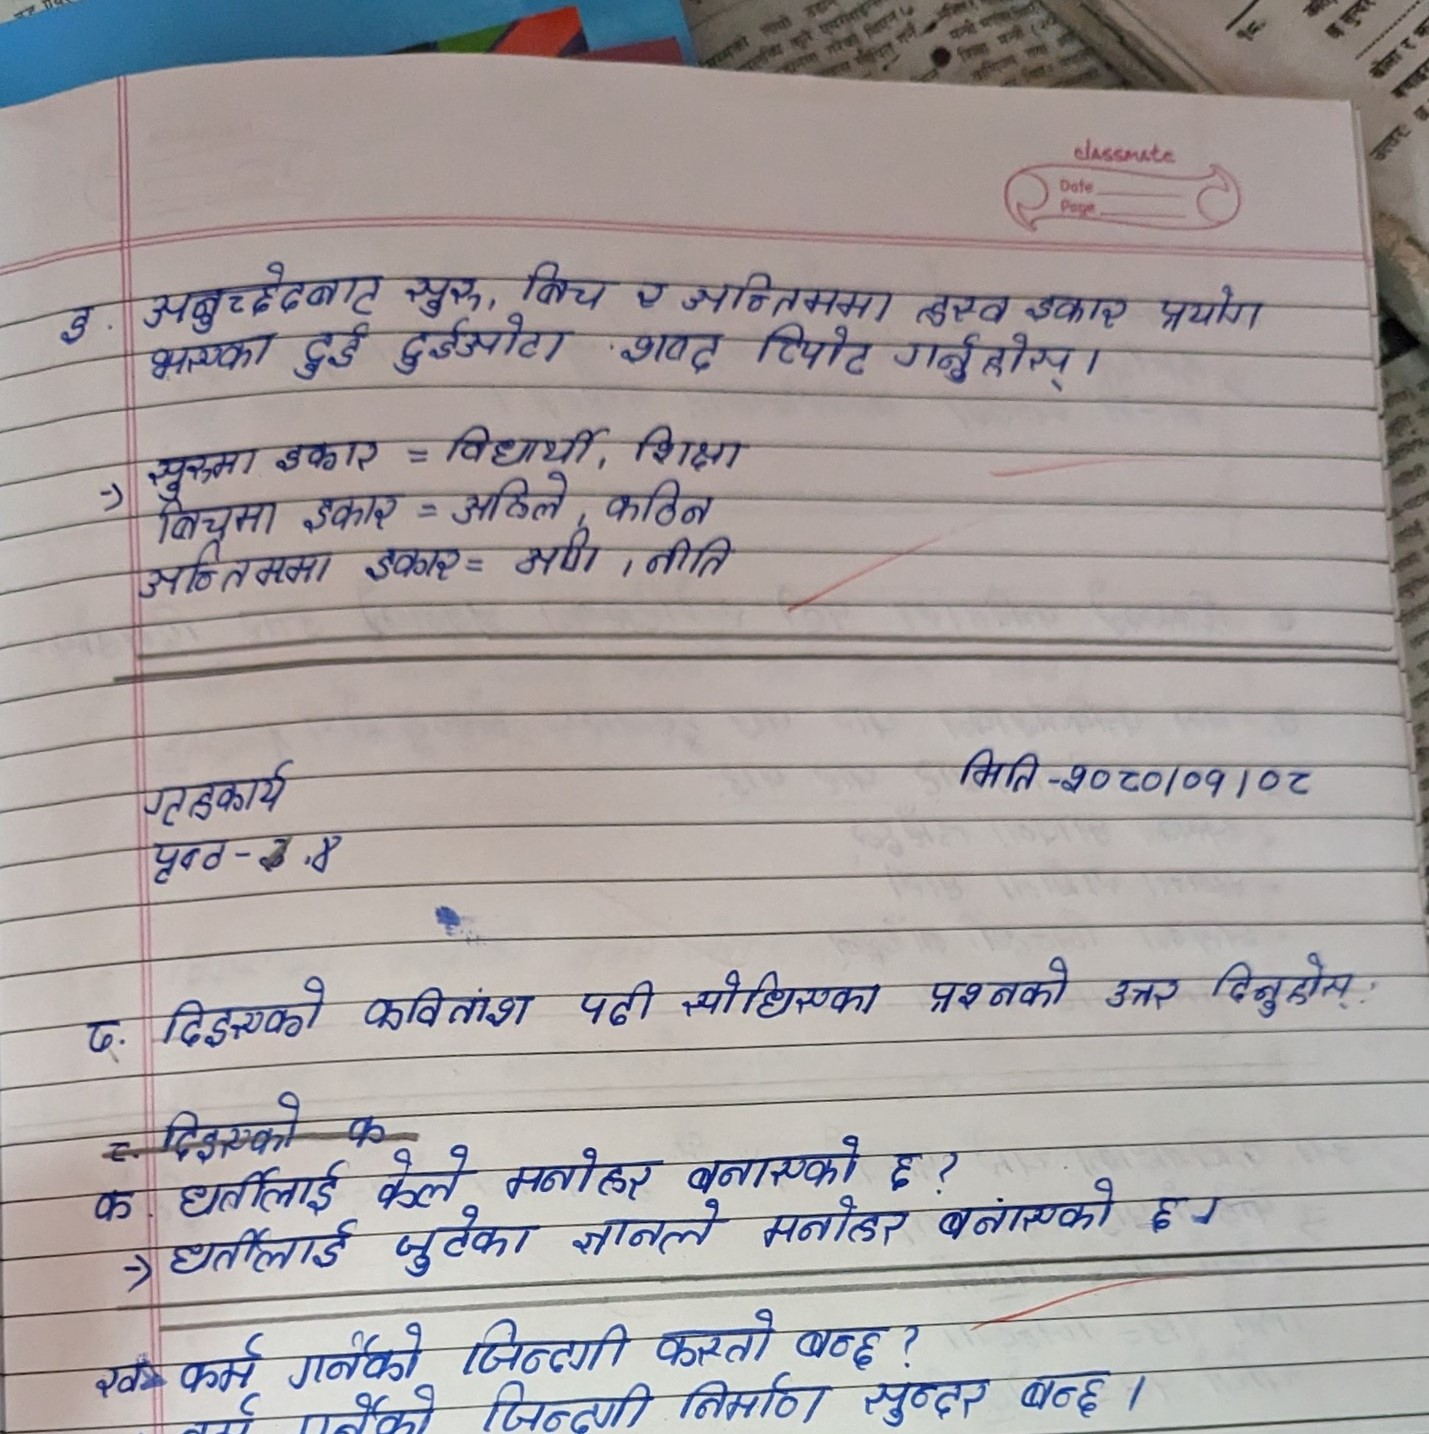text: (128, 260, 387, 323), (119, 758, 331, 830), (932, 1181, 1131, 1253), (156, 975, 332, 1055), (674, 964, 892, 1026), (107, 544, 342, 599), (393, 315, 567, 387), (680, 267, 899, 323), (892, 334, 1081, 396), (154, 1223, 366, 1278), (359, 977, 537, 1041), (680, 1134, 865, 1196), (919, 950, 1080, 1017), (171, 1157, 349, 1217), (444, 410, 611, 470), (455, 1319, 633, 1375), (1210, 953, 1354, 1022), (499, 1142, 663, 1202), (572, 1202, 733, 1263), (750, 1195, 913, 1253), (289, 1321, 431, 1390), (391, 1213, 546, 1274), (674, 1370, 832, 1427), (484, 1382, 652, 1434), (1146, 273, 1277, 336), (646, 1308, 779, 1367), (136, 328, 277, 383), (1008, 1355, 1112, 1427), (752, 324, 879, 381), (629, 420, 752, 478), (857, 1376, 991, 1429), (376, 1144, 480, 1209), (641, 530, 759, 587), (445, 472, 574, 523), (169, 1331, 272, 1393), (131, 444, 259, 493), (595, 479, 722, 526), (790, 1318, 899, 1373), (506, 529, 611, 585), (152, 498, 287, 542), (620, 326, 722, 381), (906, 277, 1013, 328), (571, 970, 653, 1034), (508, 256, 609, 309), (292, 485, 403, 531), (140, 833, 232, 888), (294, 321, 370, 383), (953, 748, 1046, 799), (364, 543, 463, 590), (273, 432, 381, 475), (1061, 758, 1163, 802), (400, 266, 488, 317), (1025, 287, 1136, 326), (1104, 968, 1180, 1021), (1255, 752, 1326, 798), (85, 1354, 152, 1400), (1179, 758, 1241, 806), (874, 1142, 929, 1193), (79, 1009, 126, 1064), (48, 298, 101, 345), (1142, 1181, 1187, 1236), (308, 822, 355, 873), (88, 1179, 136, 1225), (627, 270, 675, 307)
